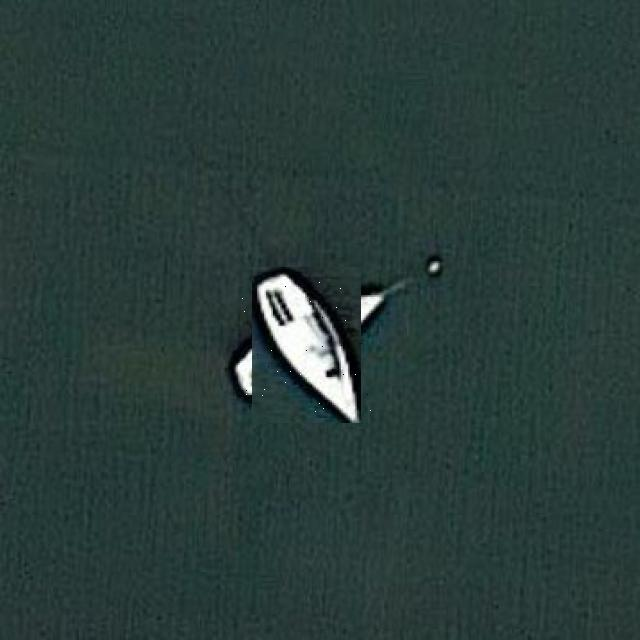boat: (240, 278, 372, 412)
